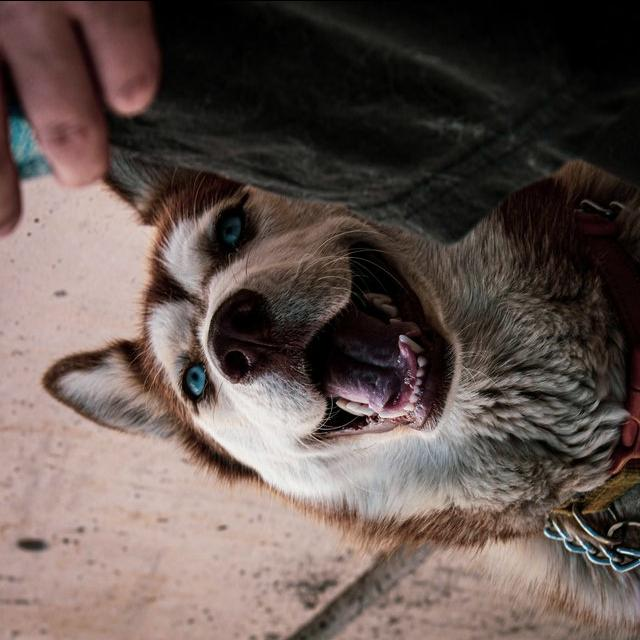husky: (39, 143, 638, 636)
